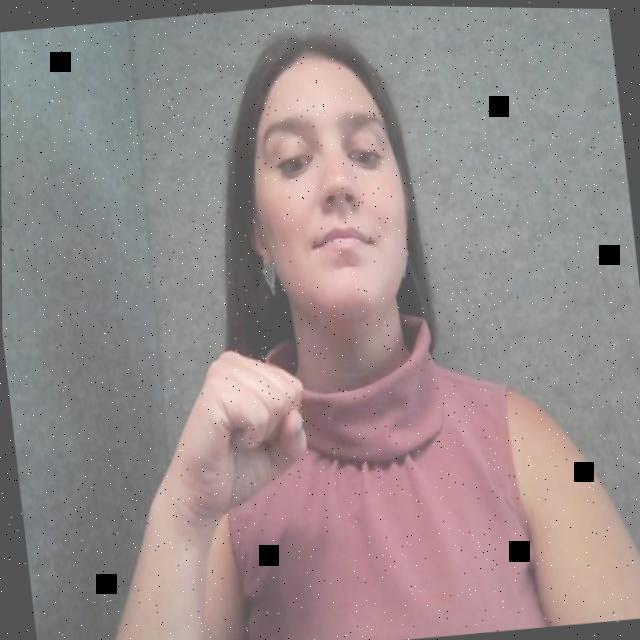Rock: (124, 318, 387, 578)
